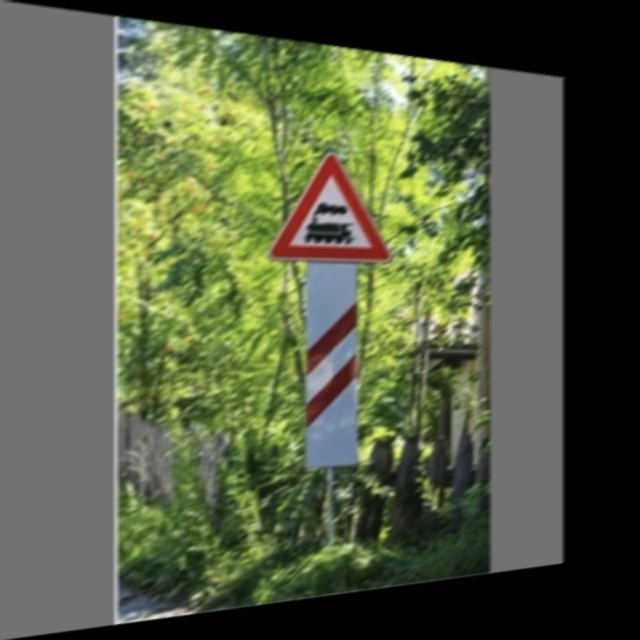Unguarded_Level_Crossing: (264, 139, 393, 266)
